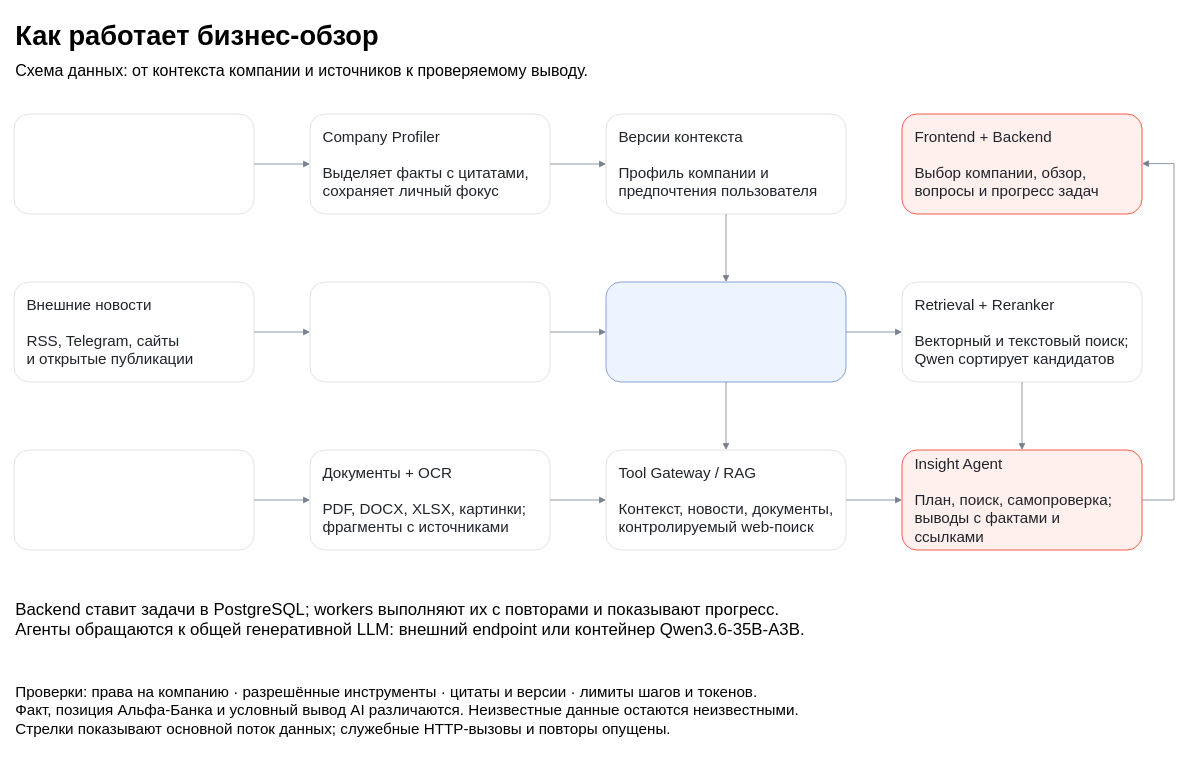
Image size: 1194x771. Some labels were removed from this diagram. Each missing label, with the centre of its shape:
"Parser + Embeddings Текст, даты, дубли, версии; Qwen создаёт векторы" belongs at [429,331].
"PostgreSQL + pgvector Данные, версии, векторы, очередь задач и журнал" belongs at [725,331].
"Аналитика банка PDF из задания; публикации через модельный API" belongs at [133,499].
"Контекст компании CSV банка, роль и цели, загруженные документы" belongs at [133,163].
